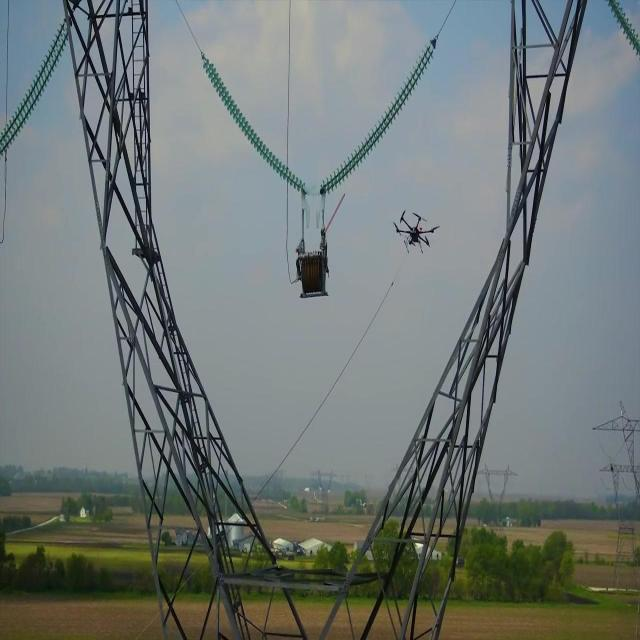drone: (393, 205, 441, 261)
